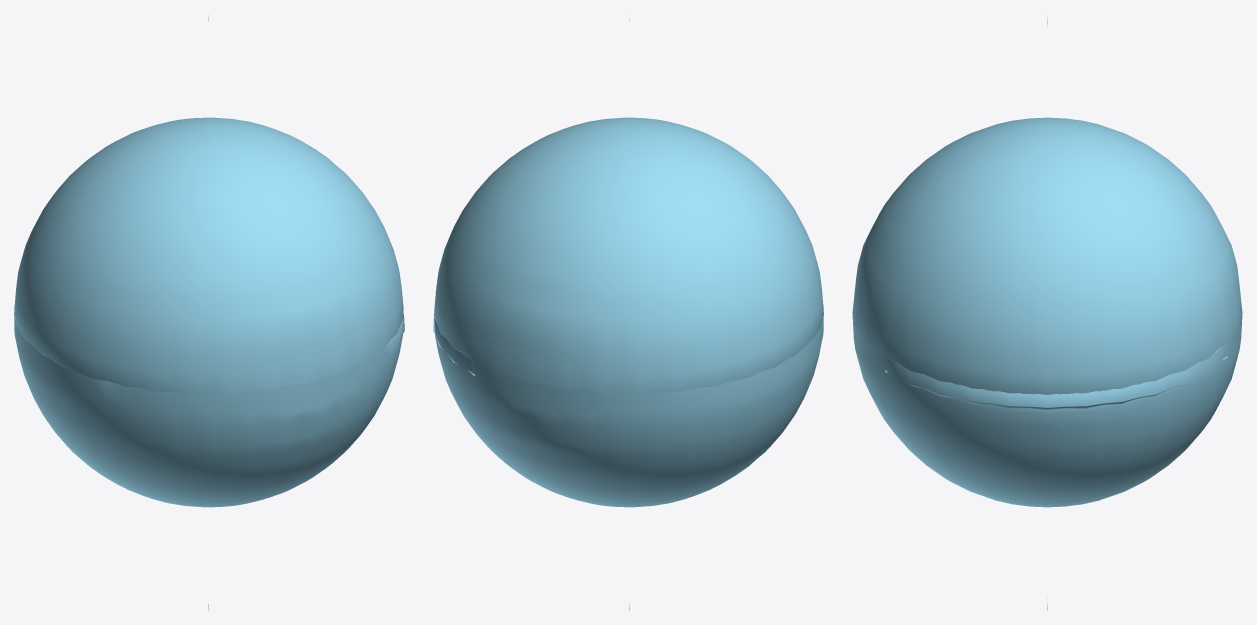
Rendered from universalAxion3.gltf.
3 renders of one model, left to right at view 1: azimuth 30°, elevation 25°; view 2: azimuth 150°, elevation 25°; view 3: azimuth 270°, elevation 25°, orthographic.
Parts seen in each view (by area): view 1: Sphere..Topp, Sphere.Bottom; view 2: Sphere..Topp, Sphere.Bottom; view 3: Sphere..Topp, Sphere.Bottom.
Boxes of the visible parts, <box> form: Sphere..Topp: <box>14,117,403,394</box>; Sphere.Bottom: <box>14,306,404,507</box>; Sphere..Topp: <box>434,117,823,394</box>; Sphere.Bottom: <box>433,306,823,507</box>; Sphere..Topp: <box>852,117,1242,394</box>; Sphere.Bottom: <box>852,303,1242,507</box>.
Bounding box in the file's own units: 1.26 × 2.11 × 1.25.
